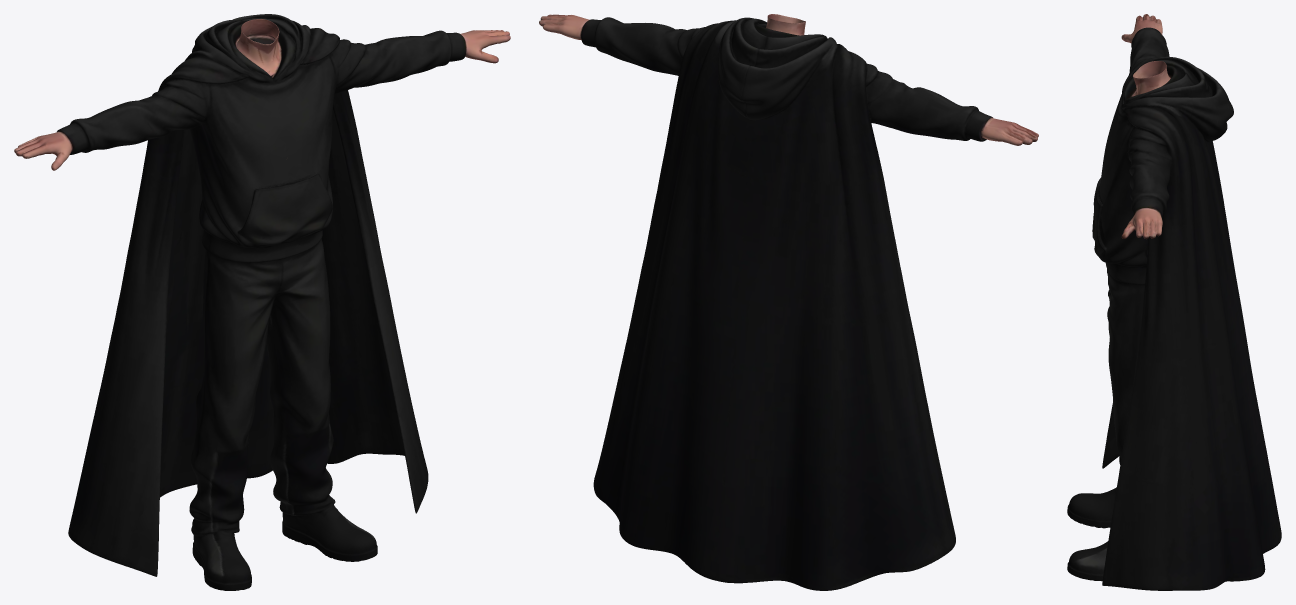
3 renders of one model, left to right at view 1: azimuth 30°, elevation 25°; view 2: azimuth 150°, elevation 25°; view 3: azimuth 270°, elevation 25°, orthographic. The views are drawn at different scales.
Visible parts, largest first — view 1: GOVDE_V7; view 2: GOVDE_V7; view 3: GOVDE_V7.
Boxes of the visible parts, x1,y1,x2,y2 form: GOVDE_V7: [14, 14, 510, 590]; GOVDE_V7: [539, 14, 1038, 590]; GOVDE_V7: [1067, 14, 1281, 590].
Size of the model in its own units: 1.88 by 1.9 by 0.7667.
1 material, 1 textured.
